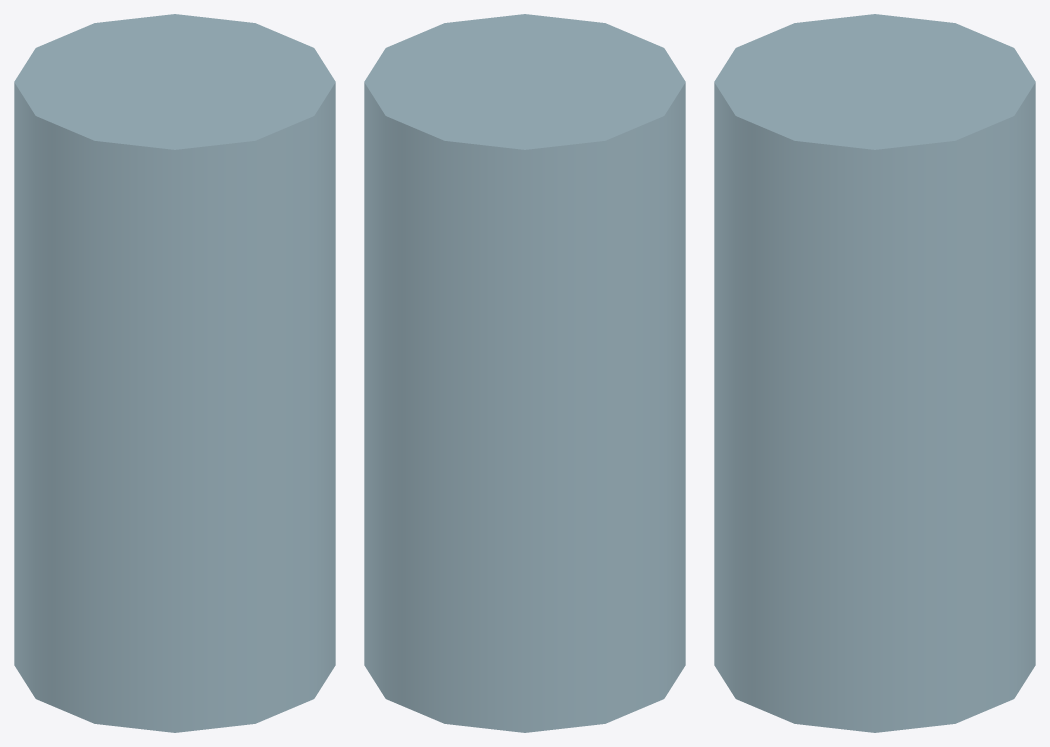
File: half-glass-water-theres.glb
The picture shows the model from 3 angles, left to right: view 1: azimuth 30°, elevation 25°; view 2: azimuth 150°, elevation 25°; view 3: azimuth 270°, elevation 25°; orthographic projection.
Bounding box in the file's own units: 0.2 × 0.4 × 0.2.
